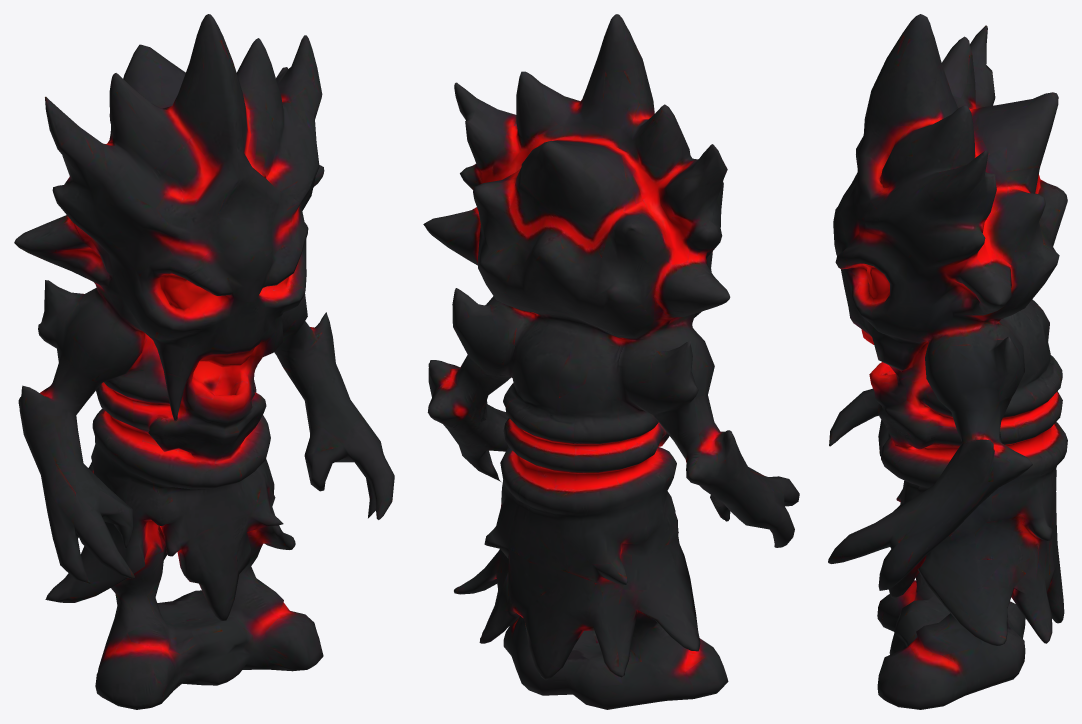
3 renders of one model, left to right at view 1: azimuth 30°, elevation 25°; view 2: azimuth 150°, elevation 25°; view 3: azimuth 270°, elevation 25°, orthographic. The views are drawn at different scales.
Bounding box in the file's own units: 0.9973 × 1.9 × 0.6385.
1 material, 1 textured.
